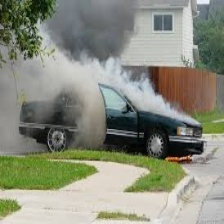smoke: (57, 54, 104, 142), (2, 50, 36, 144), (127, 71, 184, 120)
